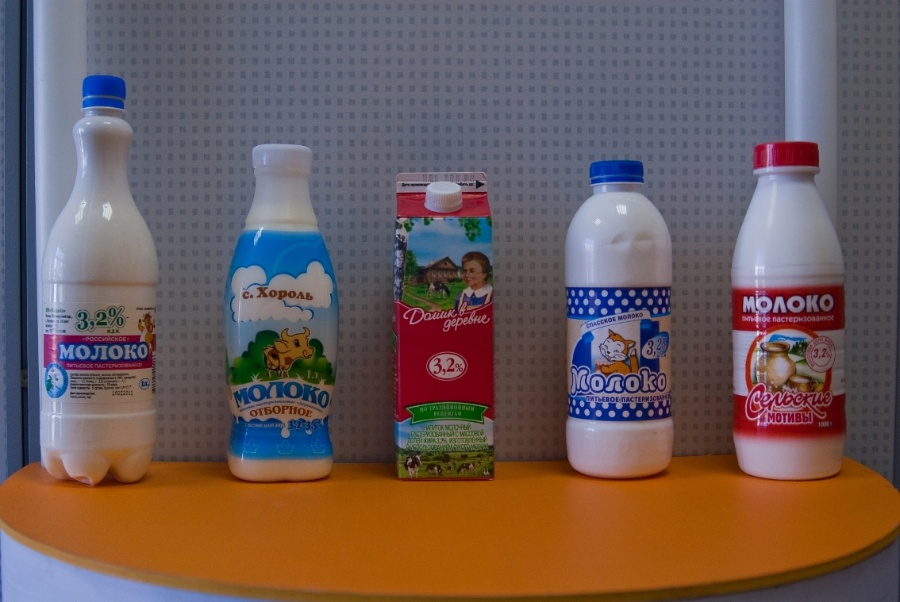milk: (35, 65, 177, 487), (717, 138, 877, 489), (543, 159, 692, 486), (228, 142, 344, 479)
